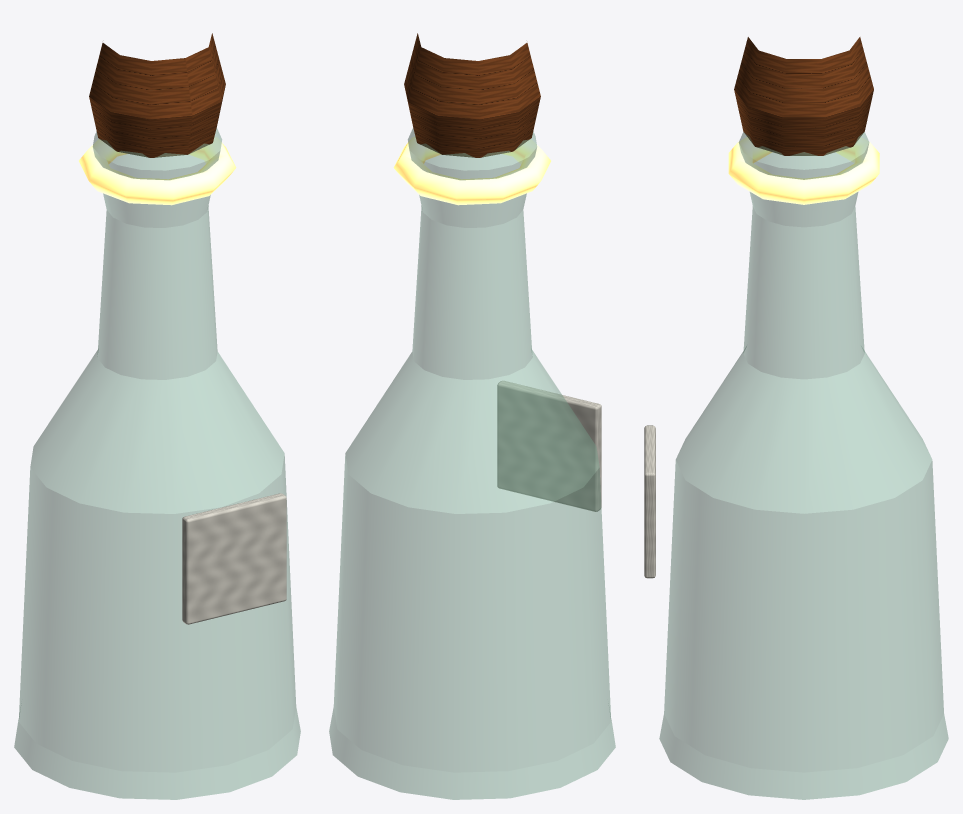
File: witch-cottage-and-apothecary-potion-bottle-conical-7fc75988__32473.glb
3 renders of one model, left to right at view 1: azimuth 30°, elevation 25°; view 2: azimuth 150°, elevation 25°; view 3: azimuth 270°, elevation 25°, orthographic.
Parts seen in each view (by area): view 1: potion-bottle-conical; view 2: potion-bottle-conical; view 3: potion-bottle-conical.
Part boxes in pixels (box(x1,y1,x2,y2)): potion-bottle-conical: box(14, 33, 300, 799); potion-bottle-conical: box(329, 33, 615, 799); potion-bottle-conical: box(644, 37, 948, 799).
Size of the model in its own units: 0.124 by 0.34 by 0.1305.
4 materials, 2 textured.
